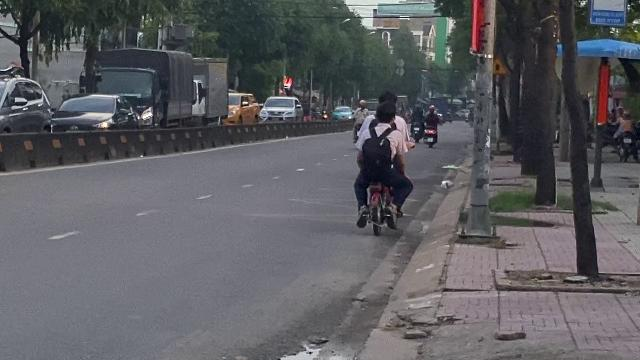motorcyclist: (349, 92, 419, 236)
nohelmet: (375, 101, 397, 123)
